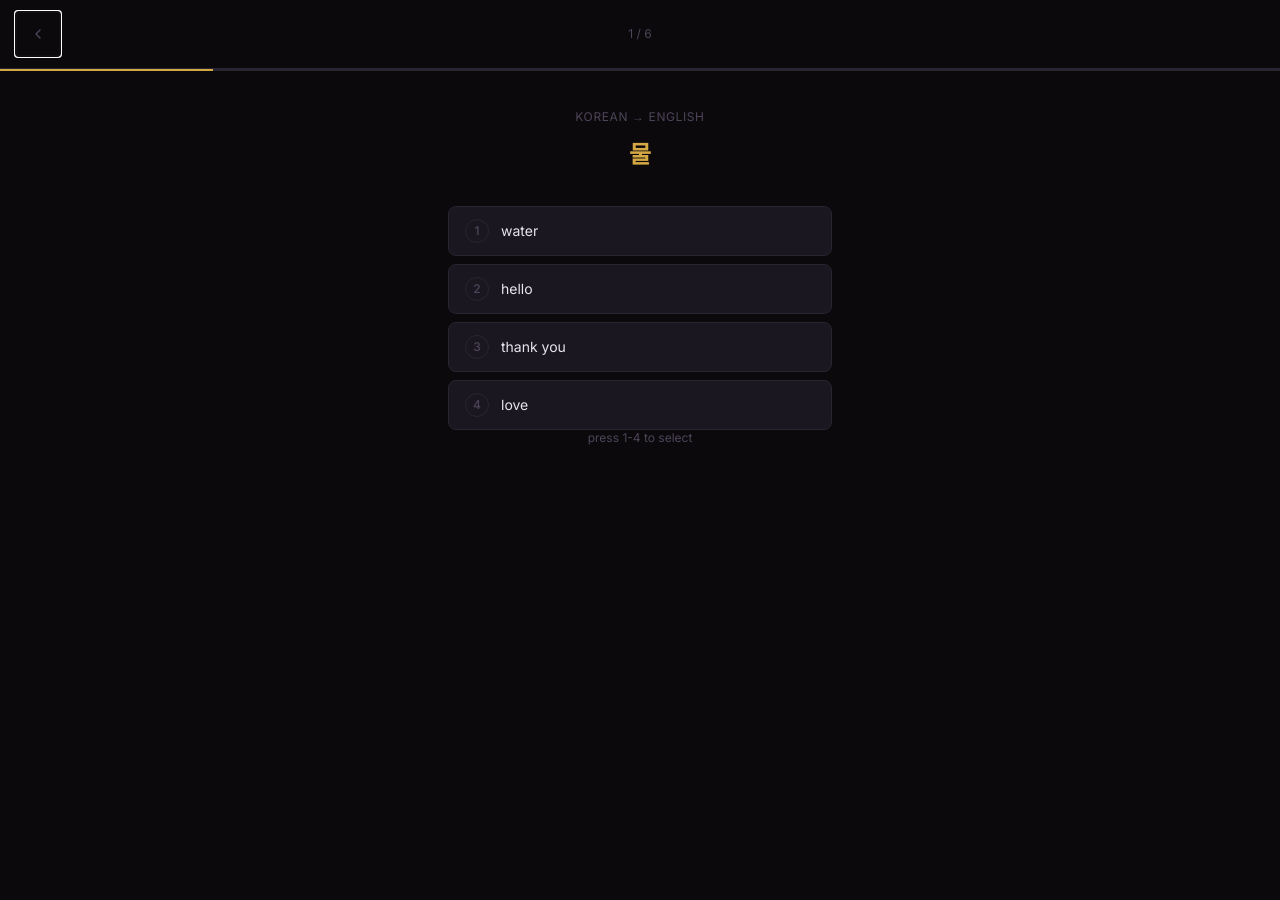
Test: QuizMode — answering › selecting an option shows Next button
The width and height of the screenshot is (1280, 900).
Click the button "1 water". click: (520, 230)
box: [448,206,832,256]
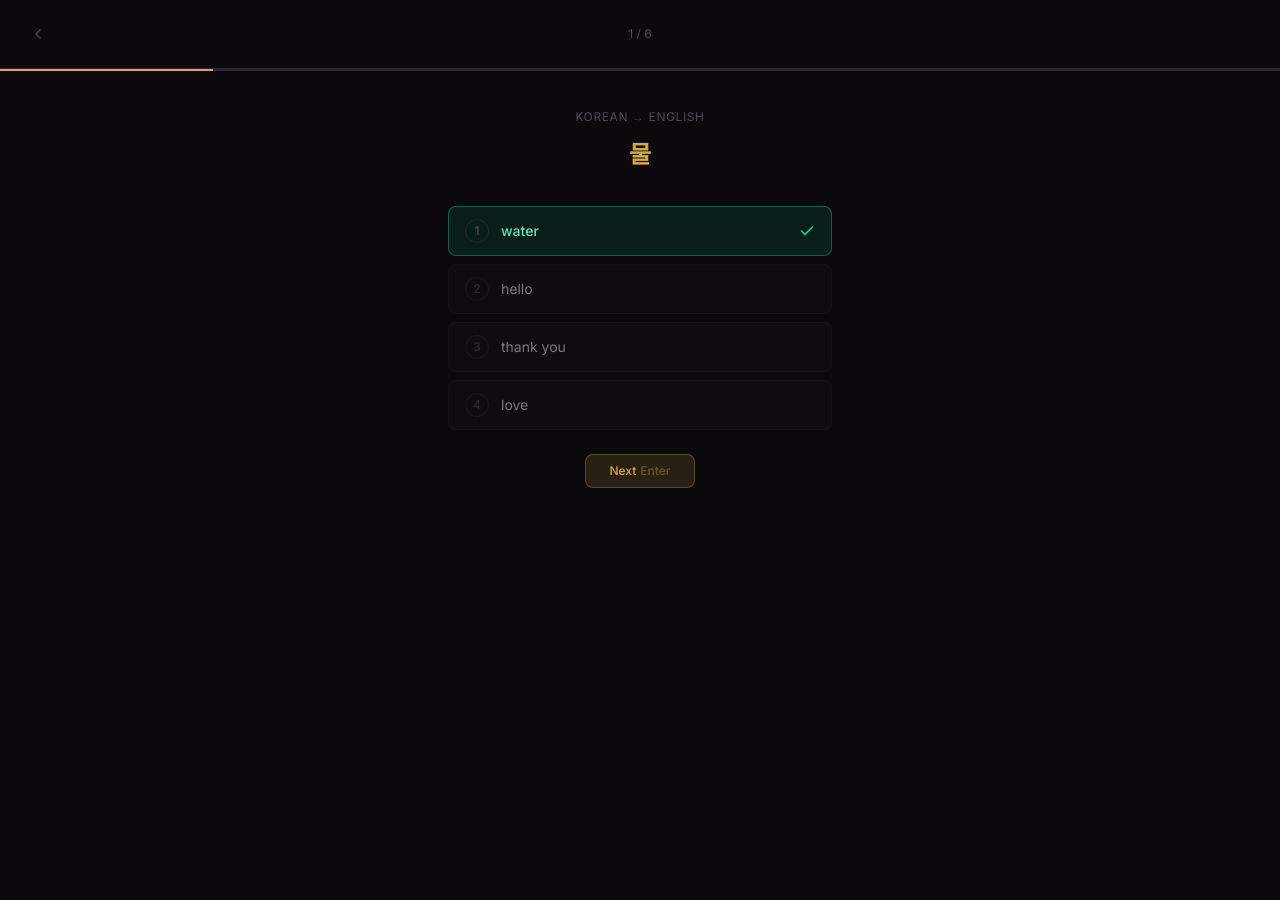
Expected: the 6th button is shown, [584,454,696,488]
